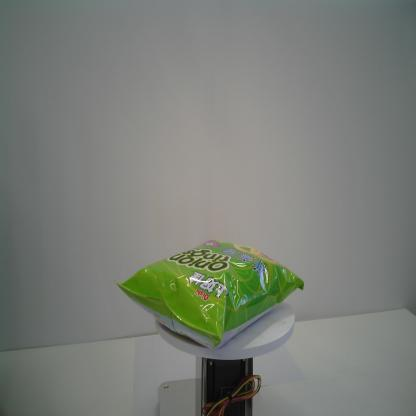Puffed Food: (112, 237, 306, 352)
